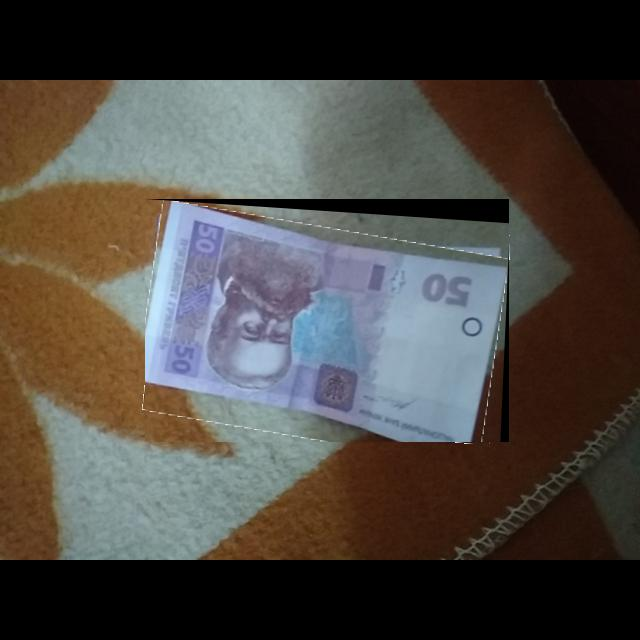50uah: (145, 201, 509, 443)
